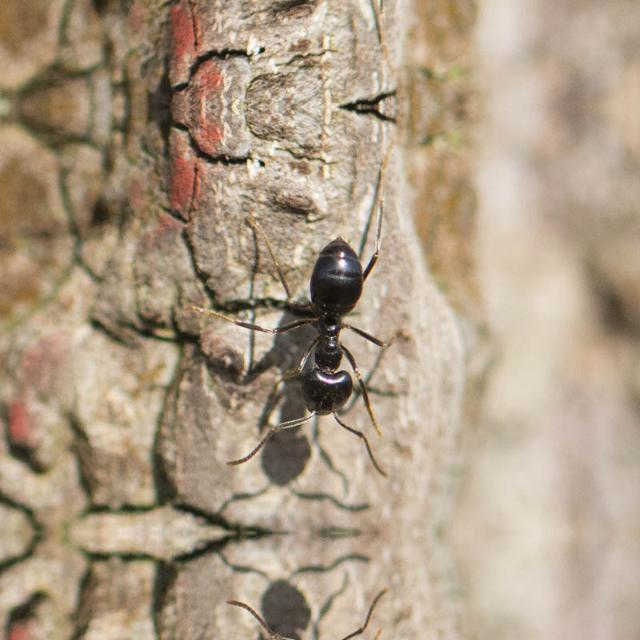Lasius: (261, 220, 411, 440)
